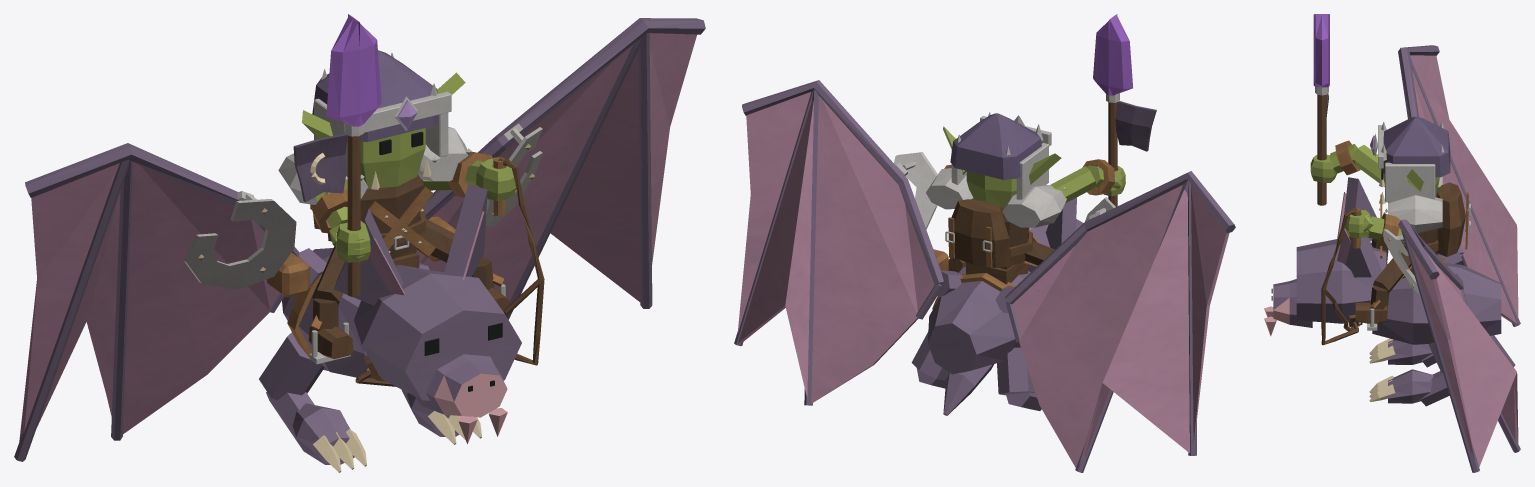
The model's file is host_35.glb.
The picture shows the model from 3 angles, left to right: view 1: azimuth 30°, elevation 25°; view 2: azimuth 150°, elevation 25°; view 3: azimuth 270°, elevation 25°; orthographic projection. The views are drawn at different scales.
Parts seen in each view (by area): view 1: Bat source connected muzzle, skull, native limbs and membran, Rider one connected body, skull, ears, two arms, compact pal, Rider source four broad planes purple iron crown cap, V6 painted Moon Bat actual wing-mounted silver crescent 1, Rider RIGHT source weapon real volumetric blade, Source actual purple moon pennant on RIGHT spear, Rider real shaped source torso clothing shell, Rider RIGHT source weapon actual wood handle, V6 painted Moon Bat actual wing-mounted silver crescent -1, Rider actual convex three-plane source pauldron -1, Rider compact source saddle pouch 1, Rider connected bridle rein 1 (+7 smaller); view 2: Bat source connected muzzle, skull, native limbs and membran, Rider source four broad planes purple iron crown cap, Rider one connected body, skull, ears, two arms, compact pal, Rider actual source broad rear leather pack, Rider RIGHT source weapon real volumetric blade, Rider actual convex three-plane source pauldron 1, V6 painted Moon Bat actual wing-mounted silver crescent -1, Source actual purple moon pennant on RIGHT spear, Rider actual convex three-plane source pauldron -1, Source small curved seat following actual bat back, Rider RIGHT source weapon actual wood handle, Rider real shaped source torso clothing shell (+1 smaller); view 3: Bat source connected muzzle, skull, native limbs and membran, Rider source four broad planes purple iron crown cap, Rider one connected body, skull, ears, two arms, compact pal, Rider actual source broad rear leather pack, Rider actual convex three-plane source pauldron -1, Rider RIGHT source weapon real volumetric blade, Rider RIGHT source weapon actual wood handle, V6 painted Moon Bat actual wing-mounted silver crescent -1, Rider connected bridle rein -1, Rider connected bridle rein 1, Rider RIGHT actual open sleeve cuff, Rider LEFT actual open sleeve cuff (+1 smaller).
Part boxes in pixels (x1,y1,x2,y2): Bat source connected muzzle, skull, native limbs and membran: (14,18,705,472); Rider one connected body, skull, ears, two arms, compact pal: (302,72,516,359); Rider source four broad planes purple iron crown cap: (312,50,451,176); V6 painted Moon Bat actual wing-mounted silver crescent 1: (184,191,296,289); Rider RIGHT source weapon real volumetric blade: (326,14,381,126); Source actual purple moon pennant on RIGHT spear: (293,133,347,202); Rider real shaped source torso clothing shell: (360,174,423,258); Rider RIGHT source weapon actual wood handle: (347,135,360,296); V6 painted Moon Bat actual wing-mounted silver crescent -1: (485,123,542,227); Rider actual convex three-plane source pauldron -1: (417,127,468,181); Rider compact source saddle pouch 1: (267,252,309,297); Rider connected bridle rein 1: (355,157,544,386); Bat source connected muzzle, skull, native limbs and membran: (734,80,1235,472); Rider source four broad planes purple iron crown cap: (950,112,1051,199); Rider one connected body, skull, ears, two arms, compact pal: (943,126,1125,272); Rider actual source broad rear leather pack: (951,199,1009,267); Rider RIGHT source weapon real volumetric blade: (1093,14,1132,95); Rider actual convex three-plane source pauldron 1: (1002,185,1066,227); V6 painted Moon Bat actual wing-mounted silver crescent -1: (894,152,937,229); Source actual purple moon pennant on RIGHT spear: (1115,101,1156,151); Rider actual convex three-plane source pauldron -1: (926,168,973,209); Source small curved seat following actual bat back: (966,262,1027,284); Rider RIGHT source weapon actual wood handle: (1108,102,1117,206); Rider real shaped source torso clothing shell: (972,199,1028,265); Bat source connected muzzle, skull, native limbs and membran: (1264,45,1520,472); Rider source four broad planes purple iron crown cap: (1374,116,1450,202); Rider one connected body, skull, ears, two arms, compact pal: (1310,144,1439,323); Rider actual source broad rear leather pack: (1436,182,1465,256); Rider actual convex three-plane source pauldron -1: (1388,195,1442,233); Rider RIGHT source weapon real volumetric blade: (1313,14,1329,87); Rider RIGHT source weapon actual wood handle: (1317,95,1326,205); V6 painted Moon Bat actual wing-mounted silver crescent -1: (1383,229,1420,295); Rider connected bridle rein -1: (1321,264,1358,345); Rider connected bridle rein 1: (1325,208,1357,331); Rider RIGHT actual open sleeve cuff: (1335,140,1360,175); Rider LEFT actual open sleeve cuff: (1376,213,1399,246).
Bounding box in the file's own units: 5 × 3.53 × 2.39.
Materials: 31 (28 with a texture image).
